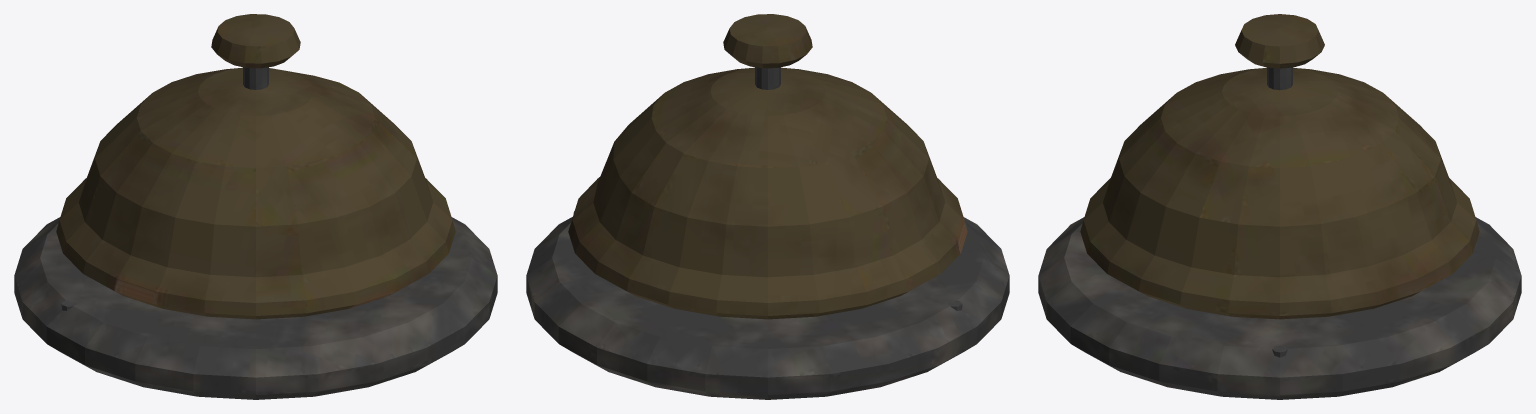
File: O14_reception_bell.glb
The picture shows the model from 3 angles, left to right: view 1: azimuth 30°, elevation 25°; view 2: azimuth 150°, elevation 25°; view 3: azimuth 270°, elevation 25°; orthographic projection.
Visible parts, largest first — view 1: Heavy stepped base; view 2: Heavy stepped base; view 3: Heavy stepped base.
Part boxes in pixels (x1,y1,x2,y2): Heavy stepped base: (14,14,497,399); Heavy stepped base: (526,14,1009,399); Heavy stepped base: (1038,14,1521,399).
Bounding box in the file's own units: 0.15 × 0.095 × 0.15.
Materials: 4 (4 with a texture image).
